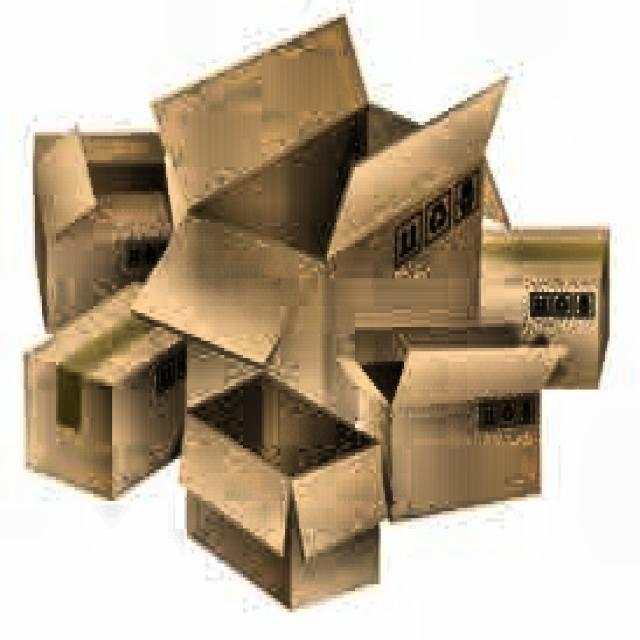cardboard: (23, 10, 610, 609)
